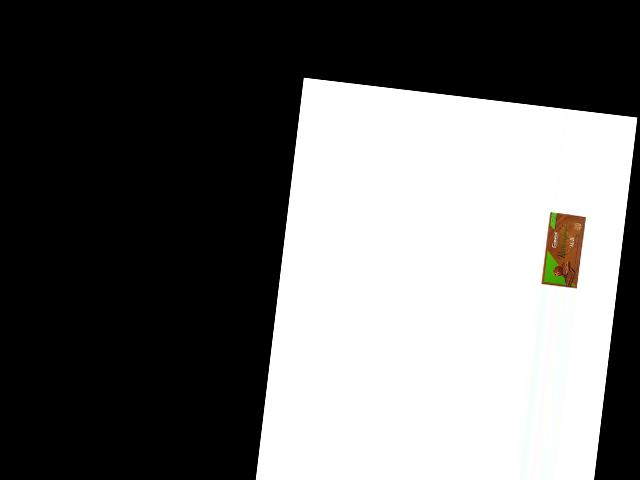chocolate: (539, 209, 589, 289)
